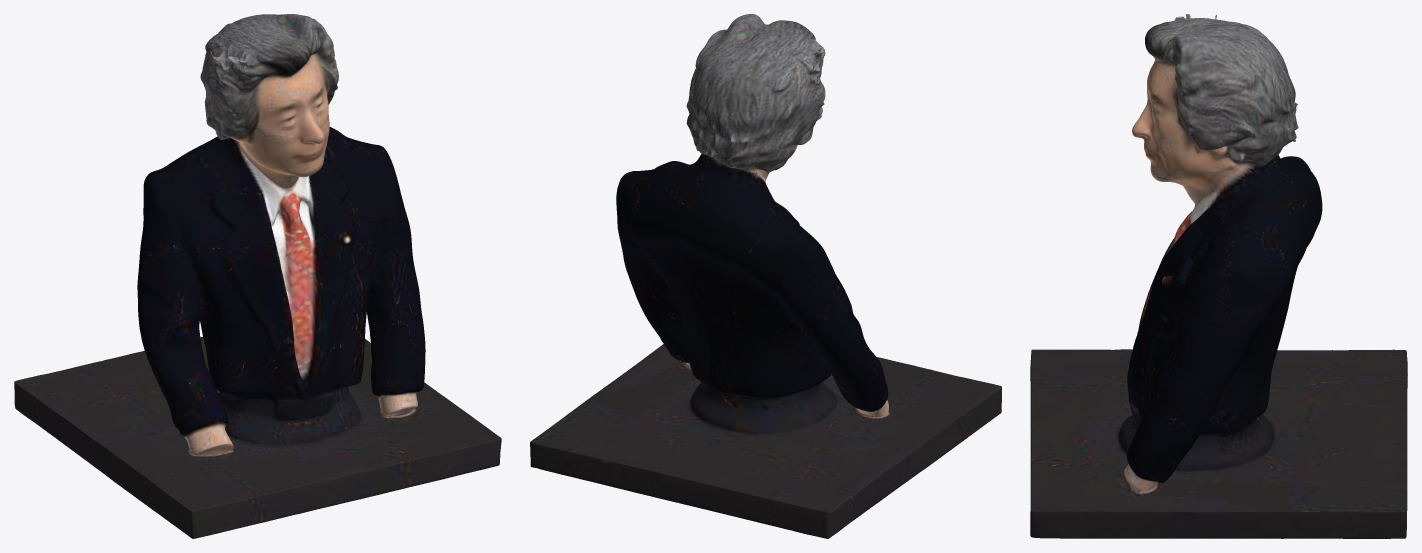
File: koizumi_face_3d.glb
3 renders of one model, left to right at view 1: azimuth 30°, elevation 25°; view 2: azimuth 150°, elevation 25°; view 3: azimuth 270°, elevation 25°, orthographic. The views are drawn at different scales.
Bounding box in the file's own units: 1.46 × 1.9 × 1.47.
Materials: 1 (1 with a texture image).
